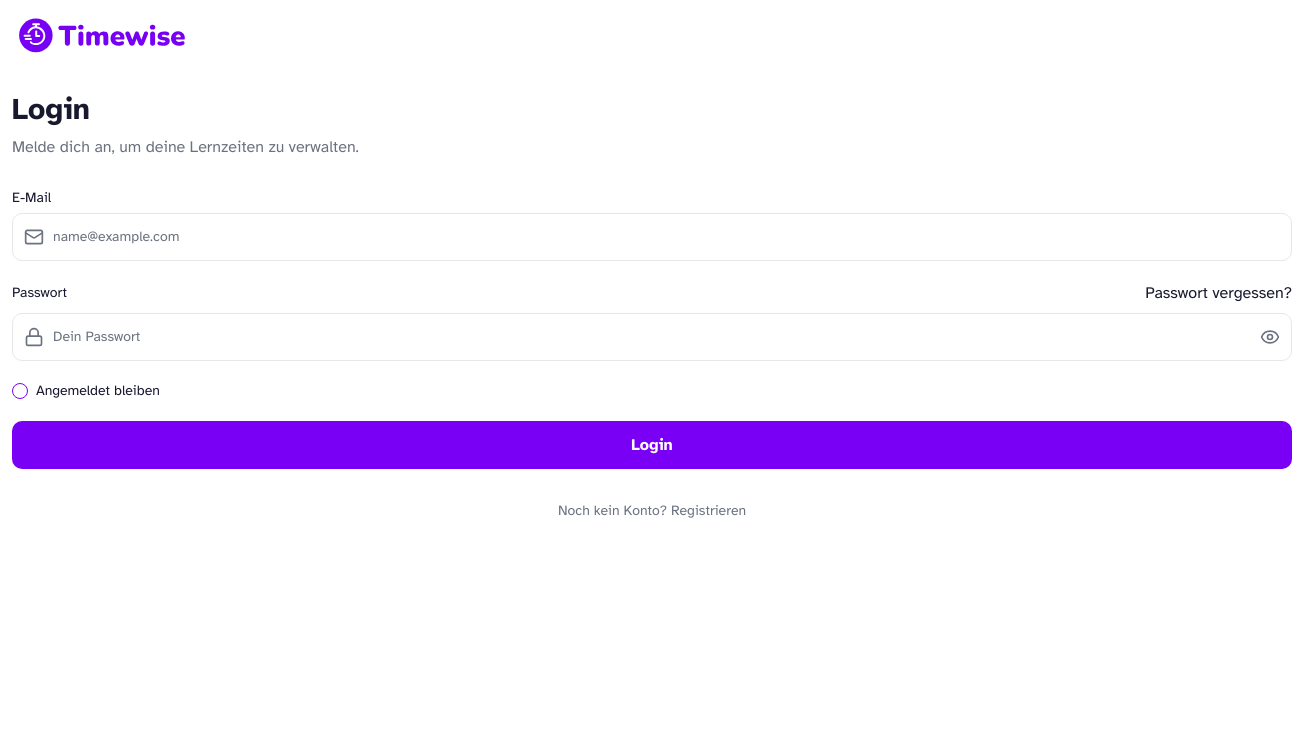
Test: LoginPage › shows the server error message for invalid credentials
Type "test@example.com" into the field with placeholder "name@example.com" at (652,237), box [12,213,1292,261]
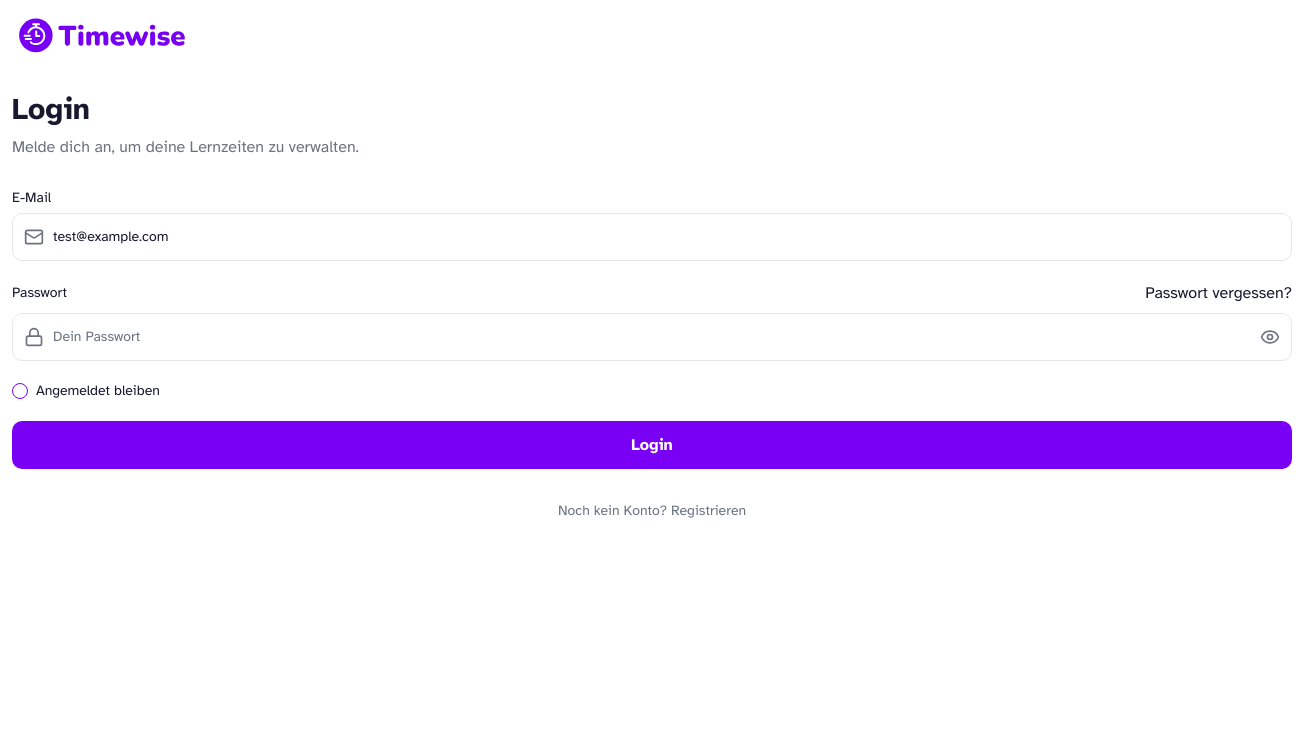
Type "falsch" into the password field with placeholder "Dein Passwort" at (652,337), box [12,313,1292,361]
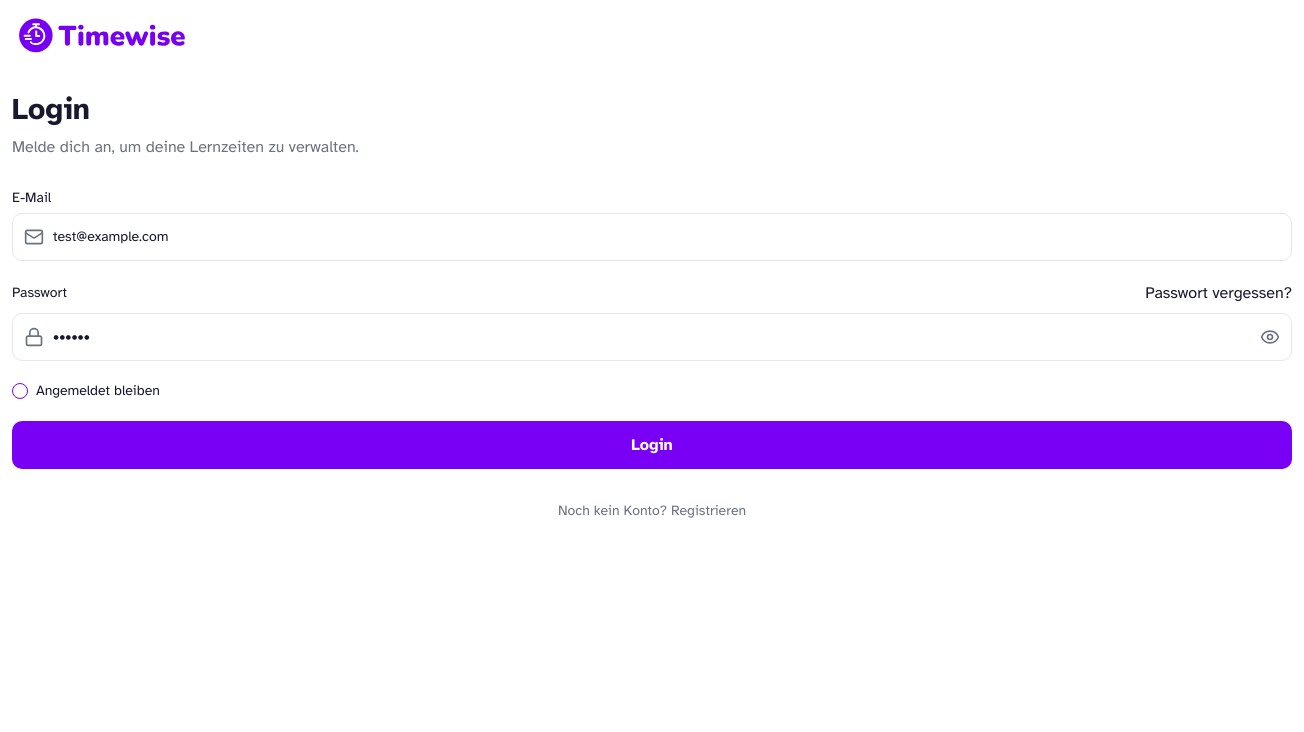
Click the button "Login" at (652,445), box [12,421,1292,469]
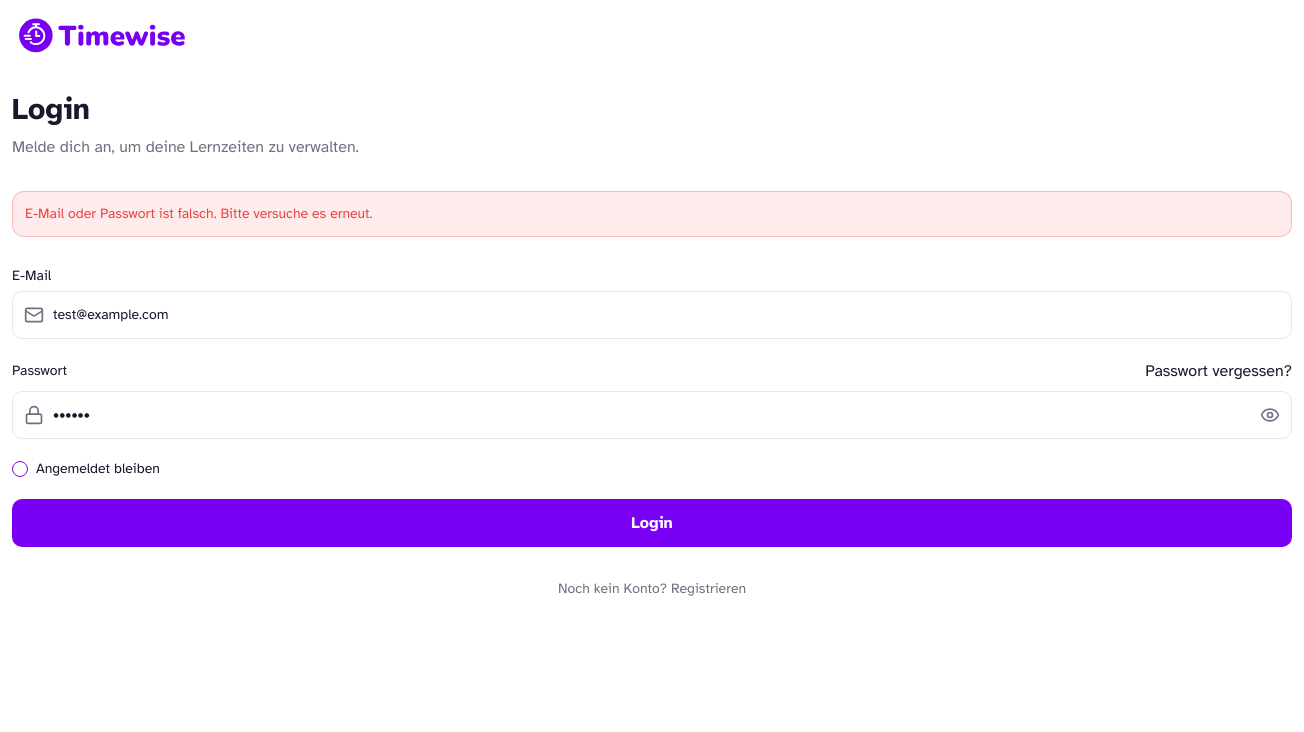
Expected: the text "E-Mail oder Passwort ist falsch. Bitte versuche es erneut." is shown, [12,191,1292,237]
